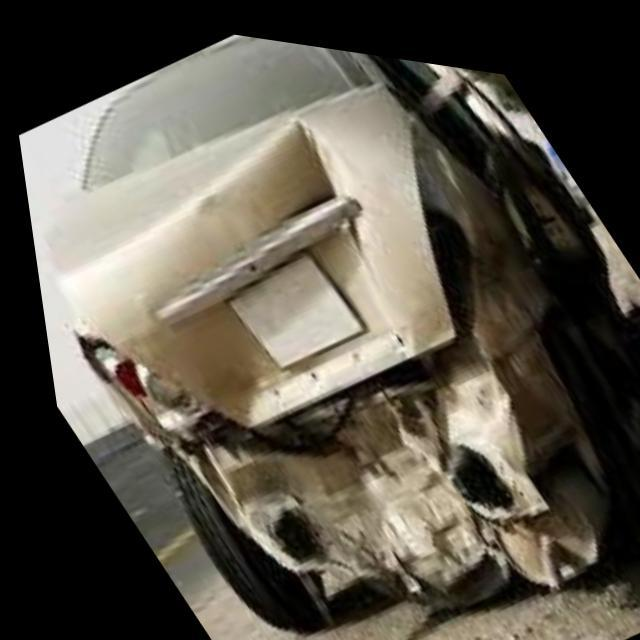crash: (51, 69, 640, 580)
